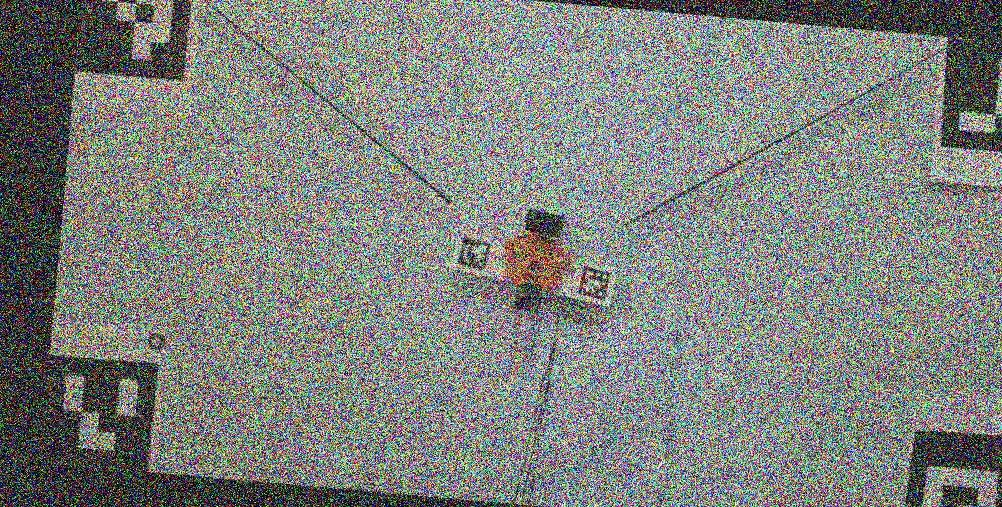obstacle: (501, 207, 572, 310)
